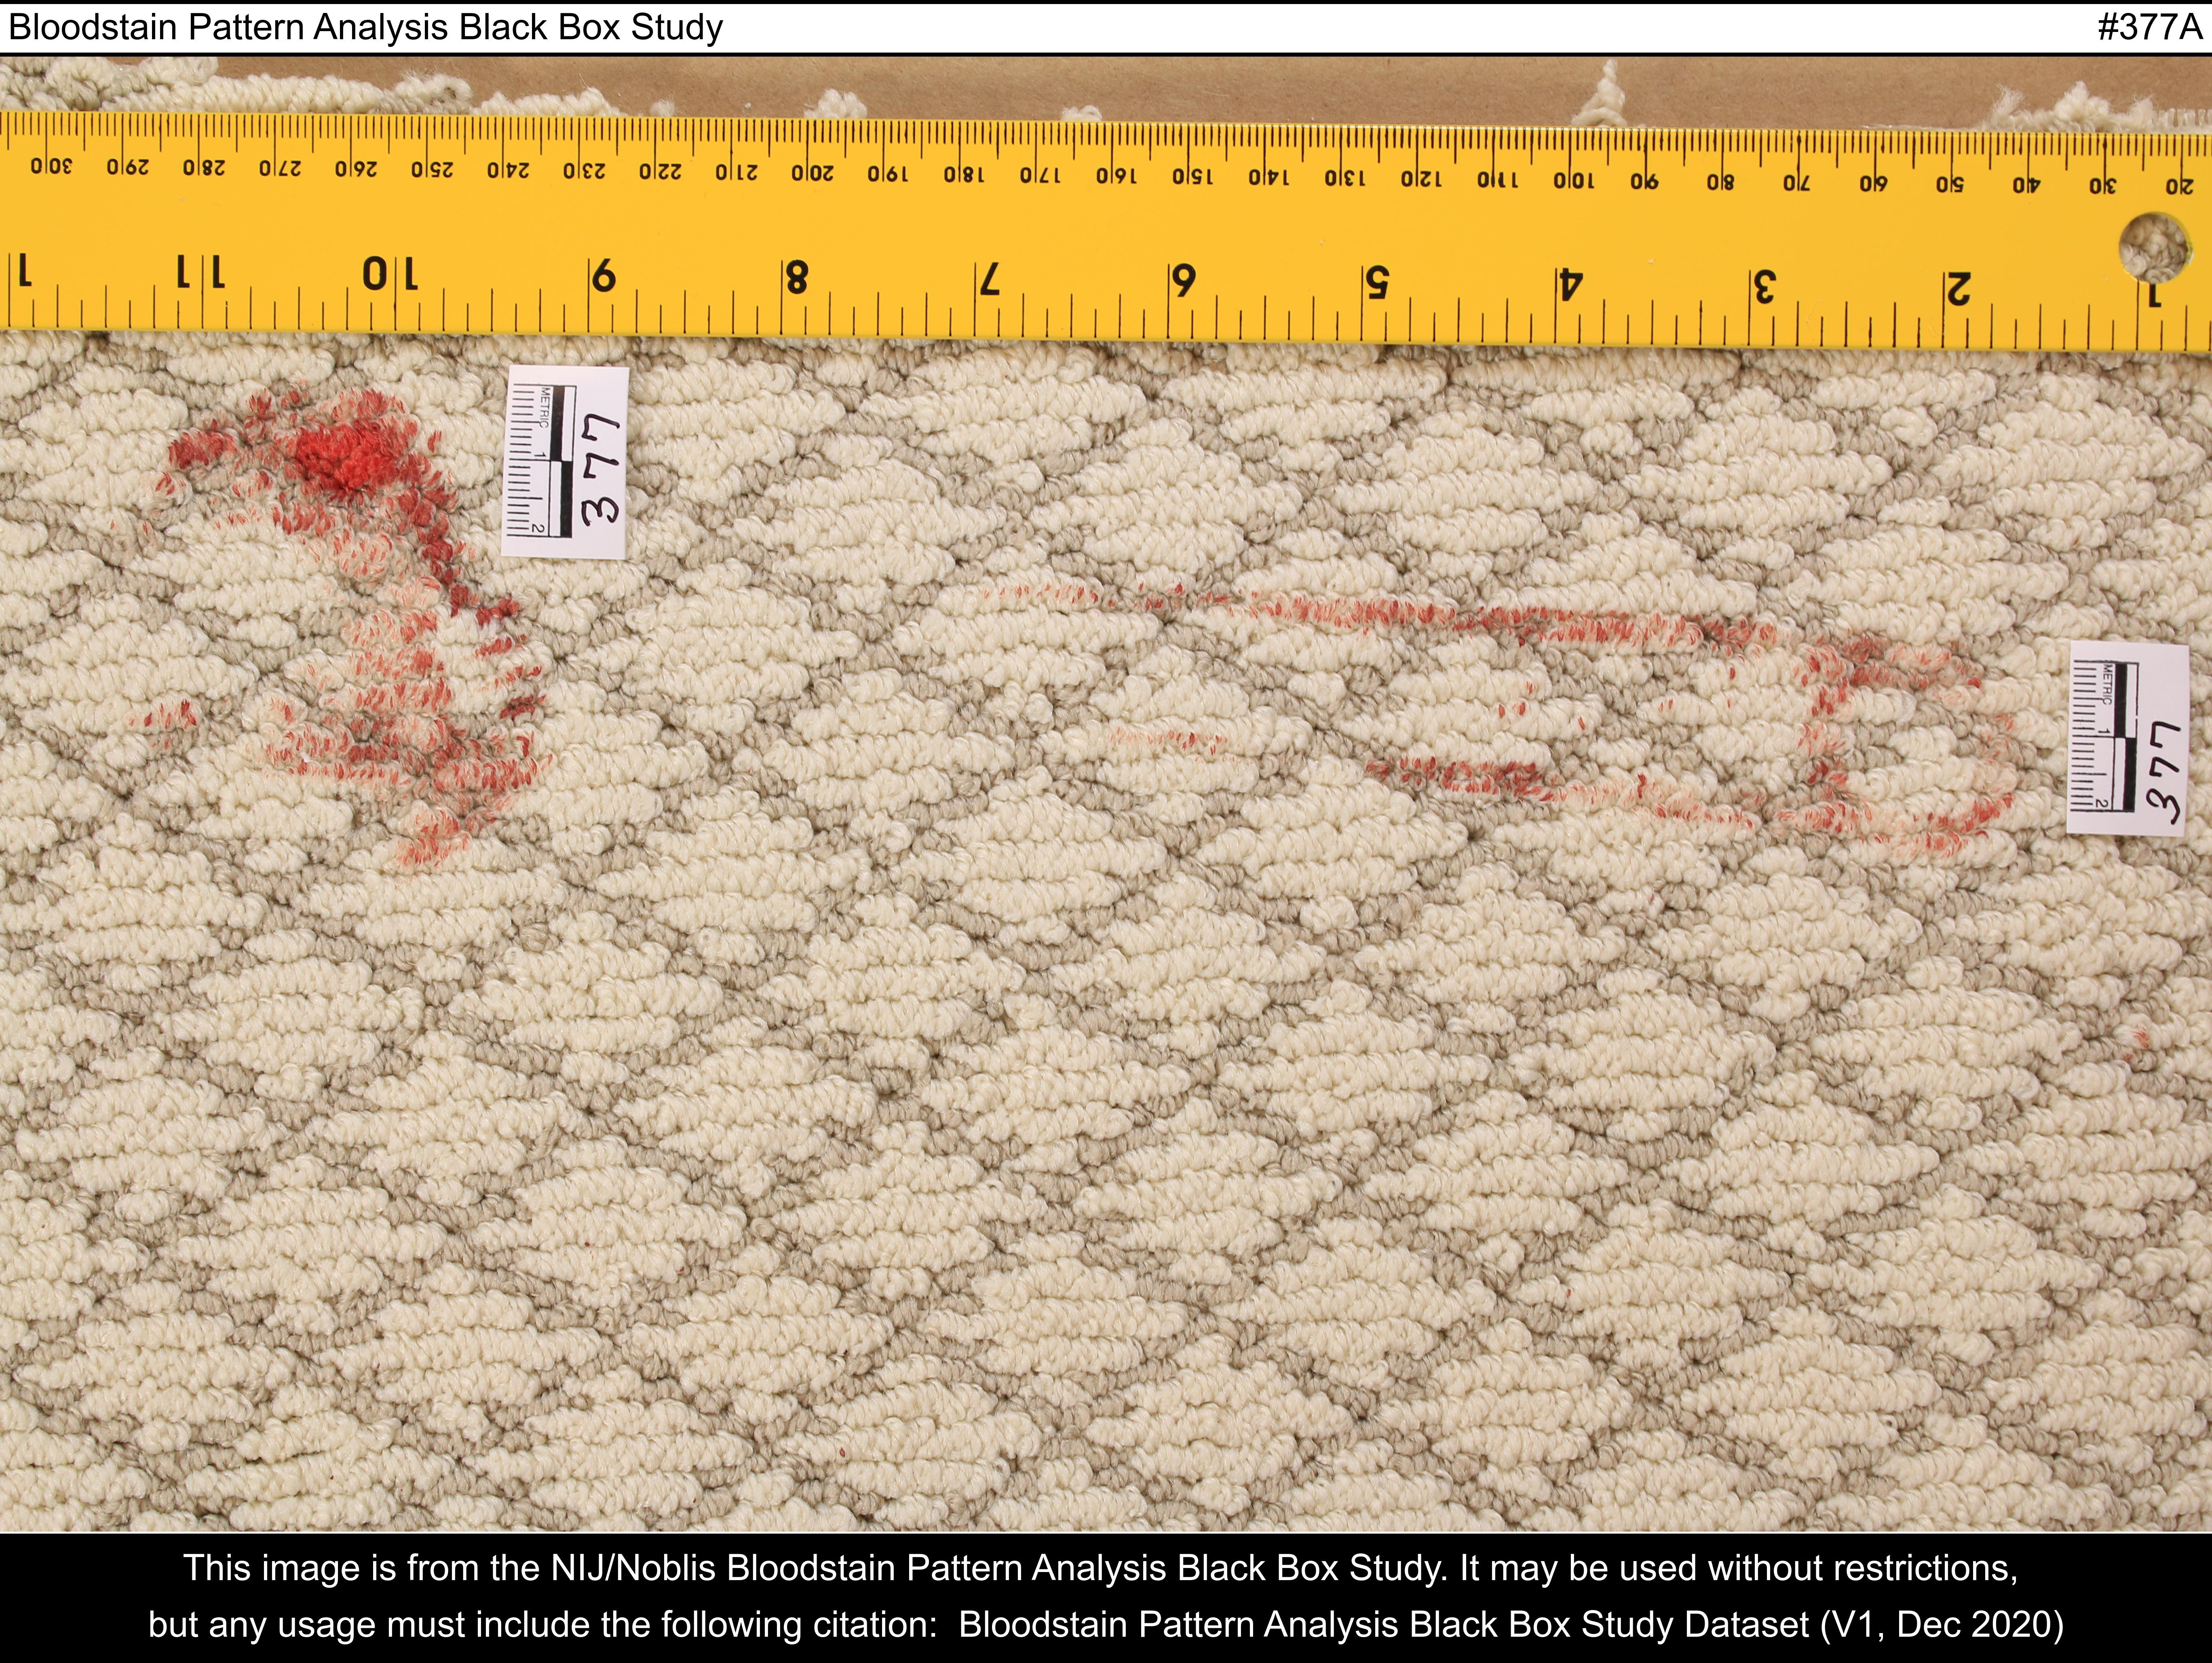Transfer: (9, 356, 2179, 882)
